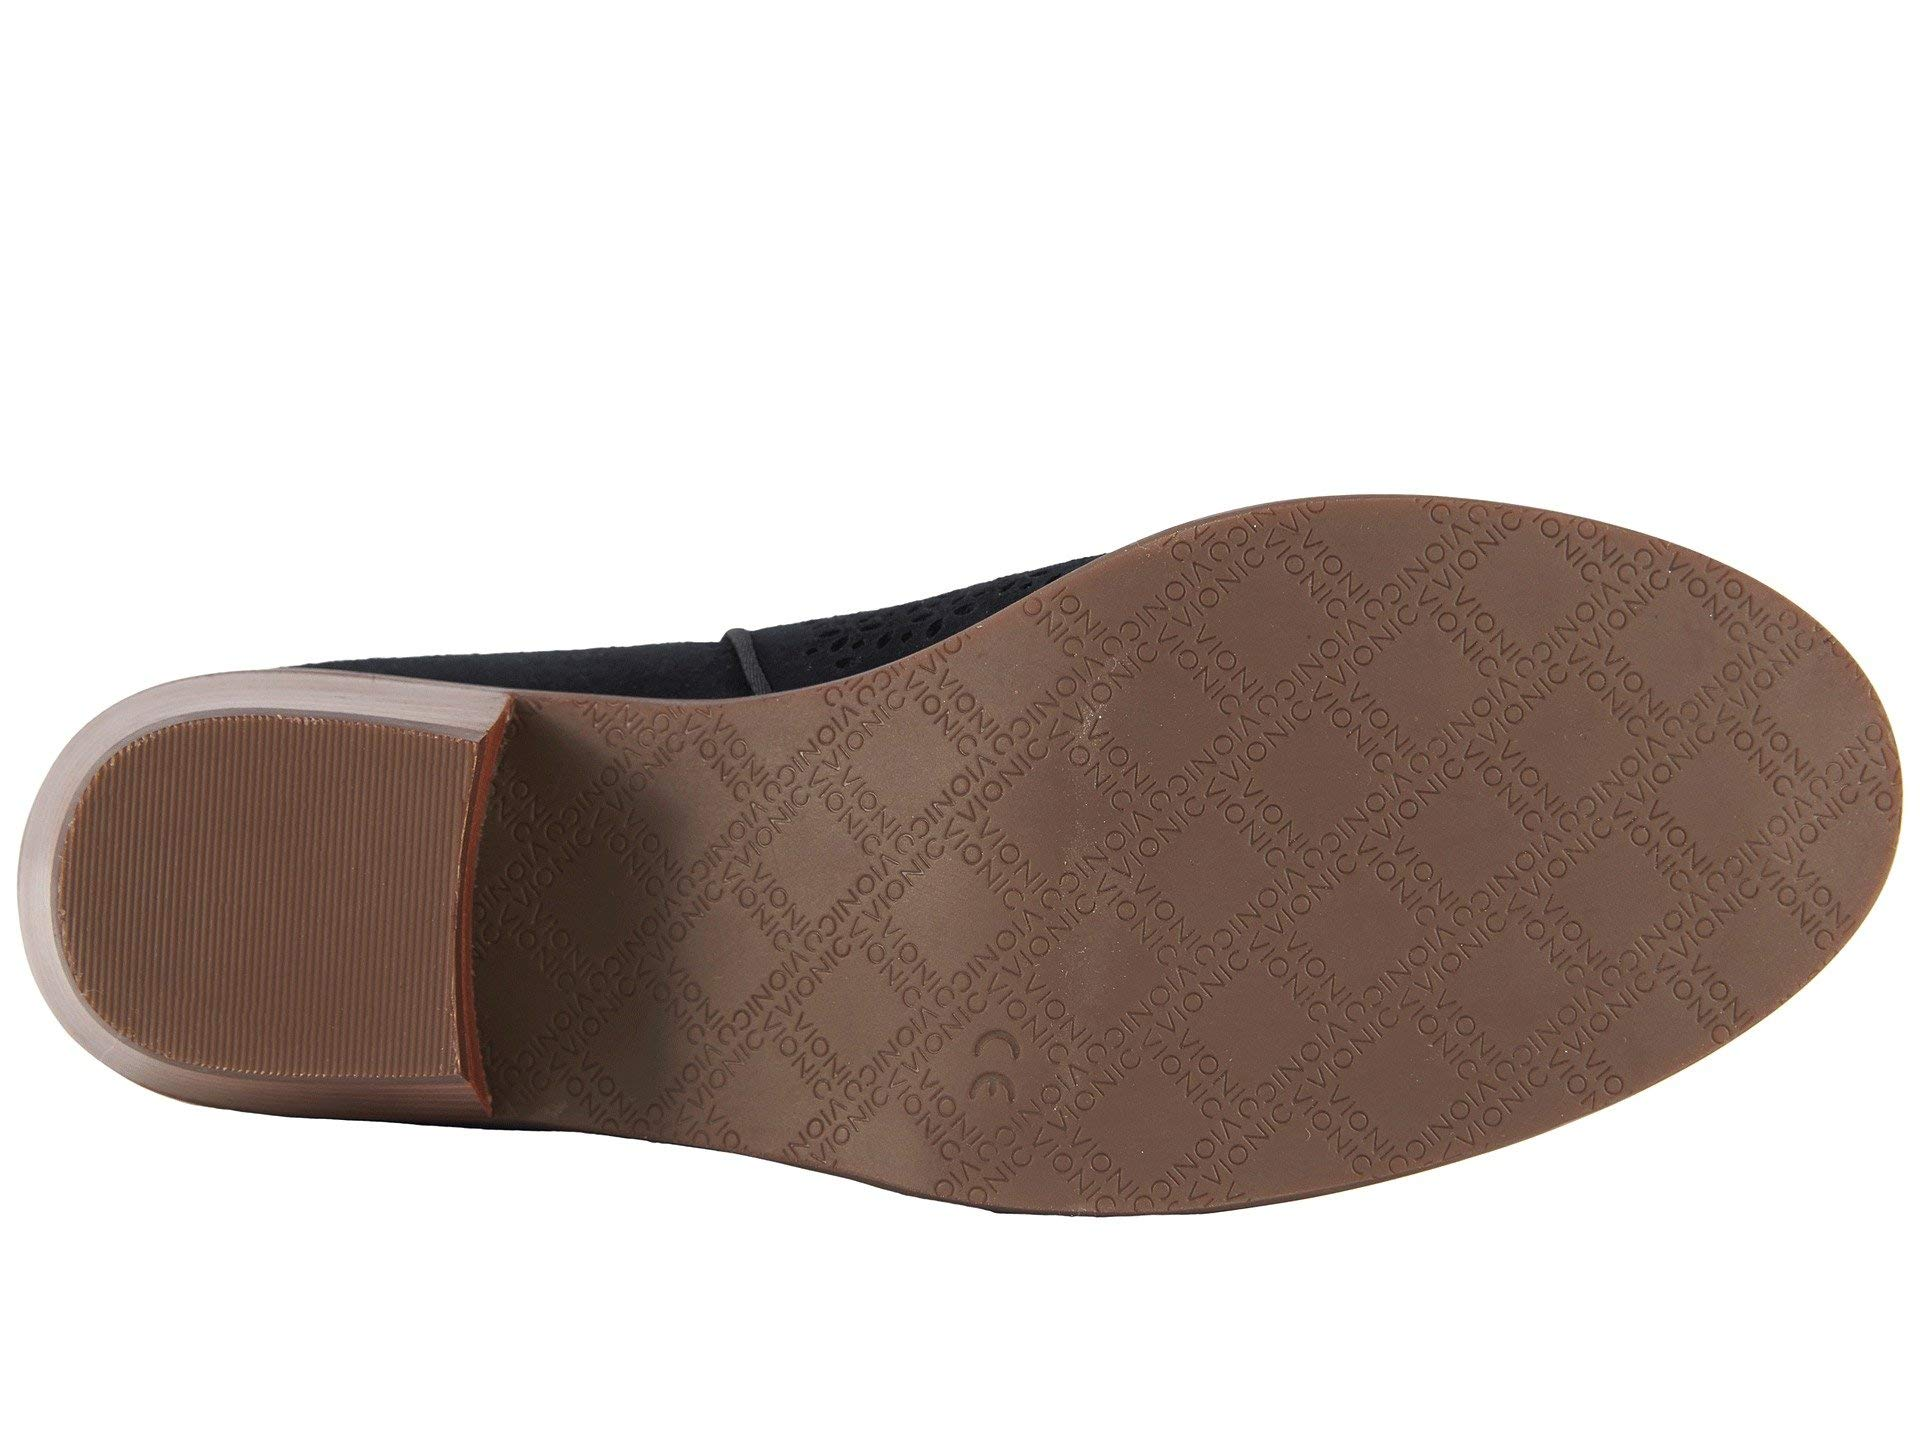circle: (1152, 534, 1733, 1047), (922, 988, 1072, 1156)
line: (1152, 534, 1733, 1047), (142, 753, 399, 1038), (922, 988, 1072, 1156)
quad: (1152, 534, 1733, 1047), (922, 988, 1072, 1156)
text: (1152, 534, 1733, 1047), (922, 988, 1072, 1156)
